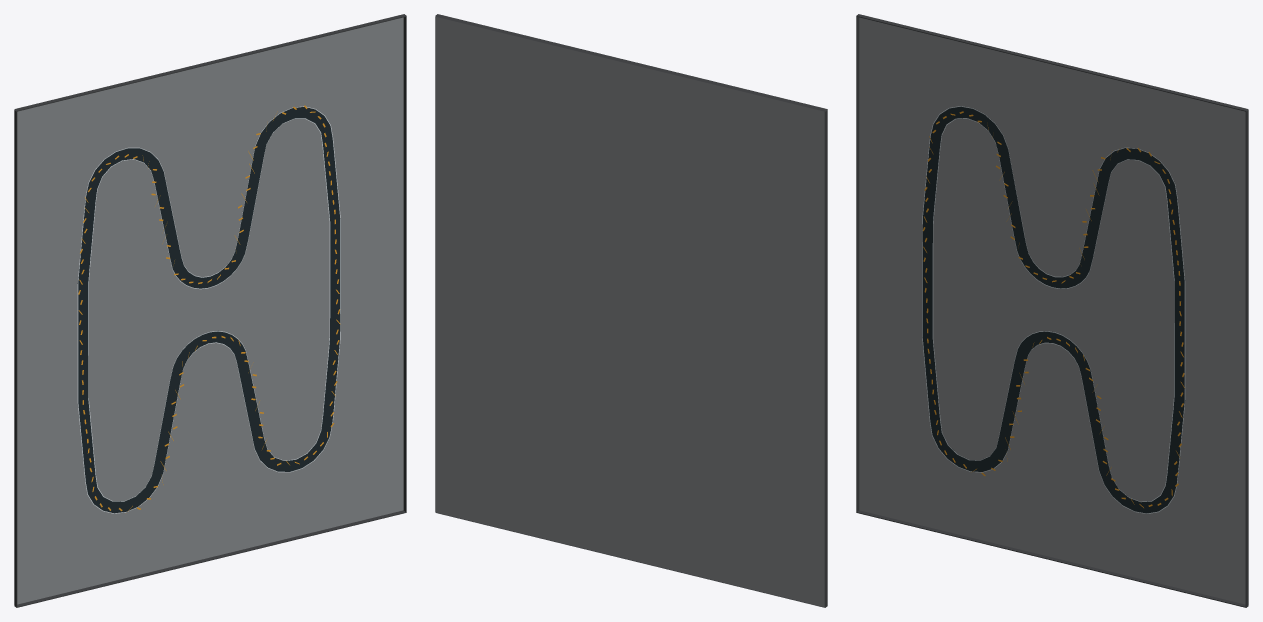
File: track.obj
3 renders of one model, left to right at view 1: azimuth 30°, elevation 25°; view 2: azimuth 150°, elevation 25°; view 3: azimuth 330°, elevation 25°, orthographic.
Bounding box in the file's own units: 26.5 × 32.26 × 0.3.
